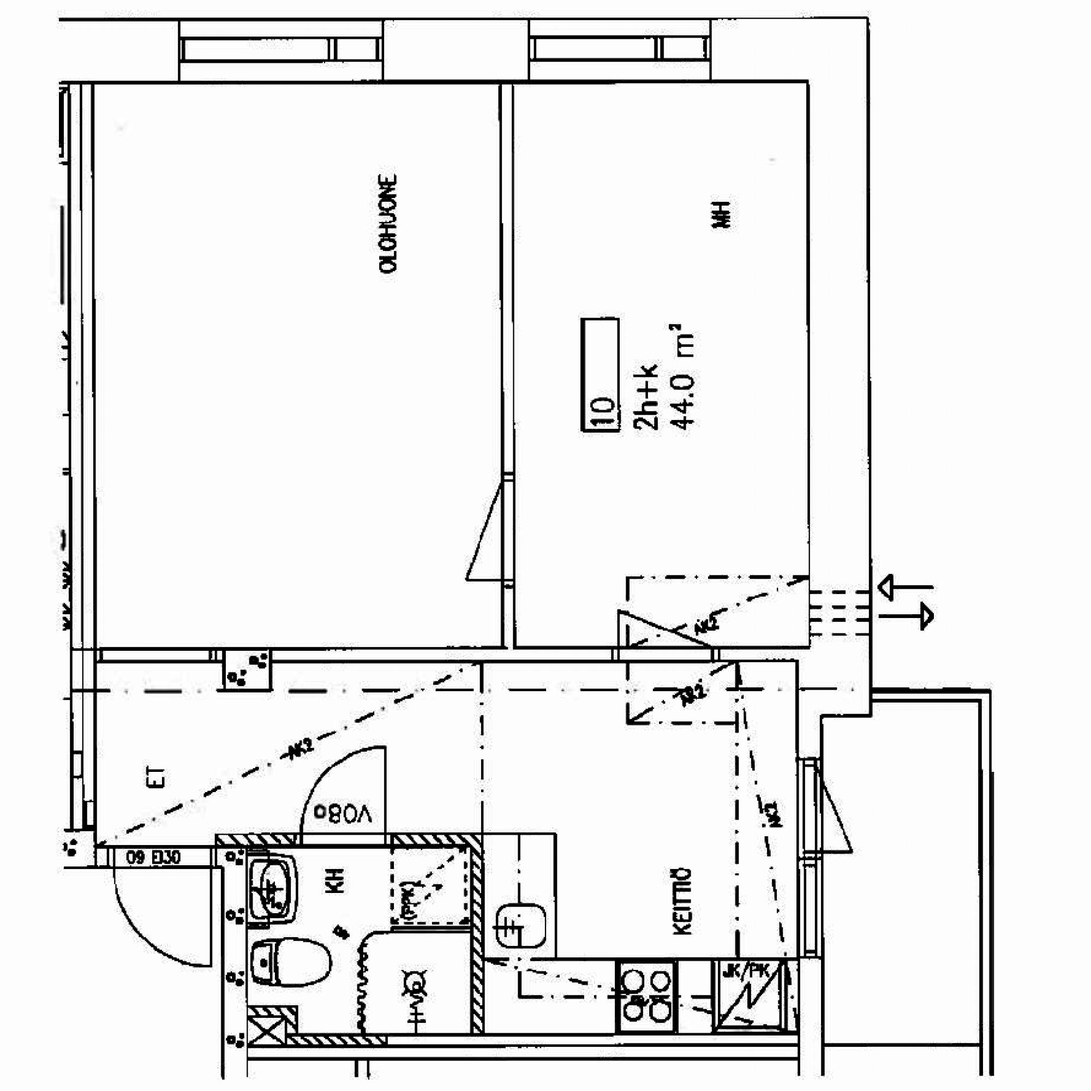wall: (71, 20, 867, 83), (807, 20, 867, 725), (71, 20, 96, 866), (298, 1033, 823, 1059), (500, 20, 515, 662), (272, 647, 867, 662), (798, 725, 823, 1059), (221, 845, 247, 1059), (222, 1005, 298, 1060), (71, 845, 247, 867), (216, 832, 485, 845), (470, 832, 485, 1059), (71, 647, 224, 662), (224, 647, 272, 689), (215, 832, 230, 866)
